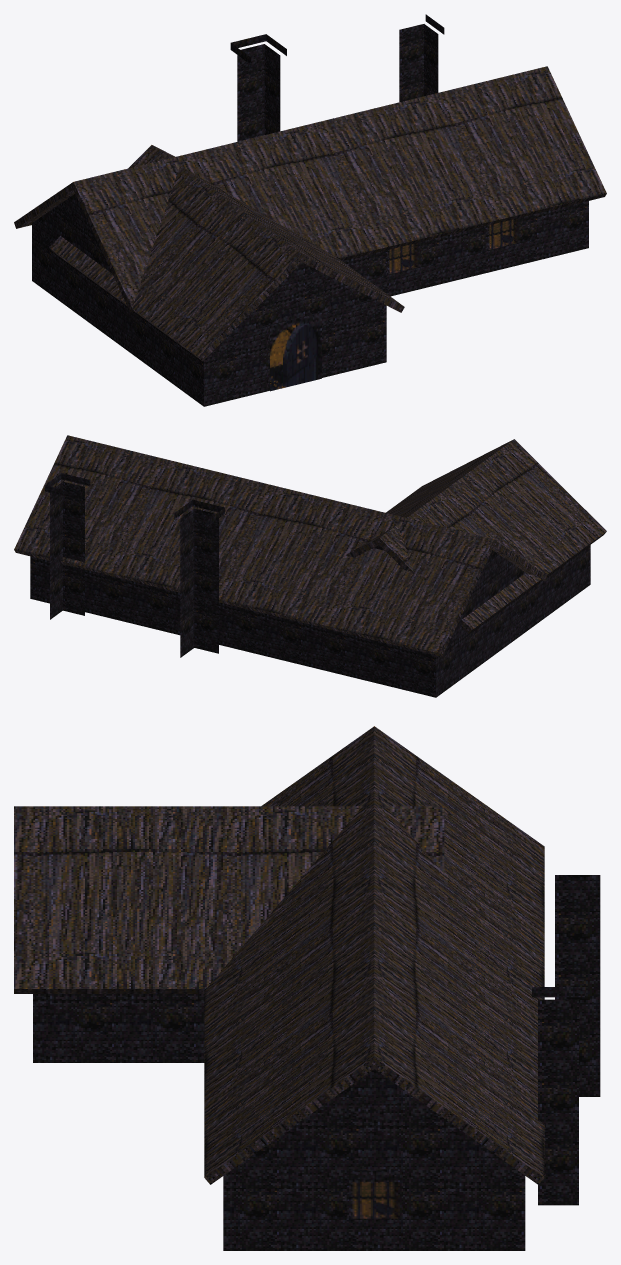
The picture shows the model from 3 angles, top to bottom: view 1: azimuth 30°, elevation 25°; view 2: azimuth 150°, elevation 25°; view 3: azimuth 270°, elevation 25°; orthographic projection. The views are drawn at different scales.
Visible parts, largest first — view 1: b_60_54; view 2: b_60_54; view 3: b_60_54.
Part boxes in pixels (box(x1,y1,x2,y2)): b_60_54: box(14, 14, 606, 406); b_60_54: box(14, 435, 606, 697); b_60_54: box(14, 726, 600, 1250).
Size of the model in its own units: 17.3 by 5.65 by 13.08.
Materials: 4 (4 with a texture image).
